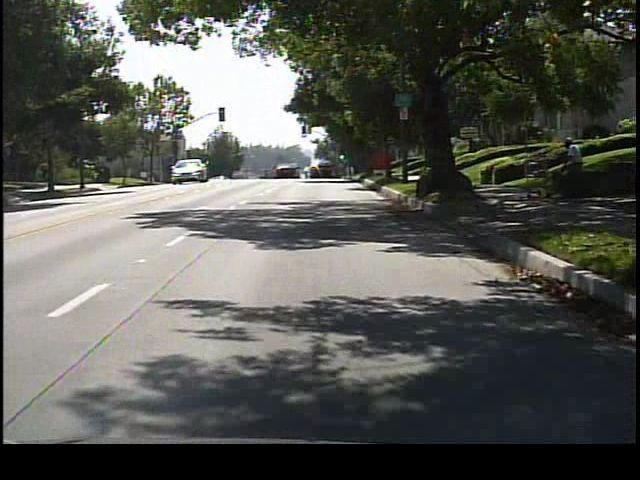person: (556, 135, 588, 207)
